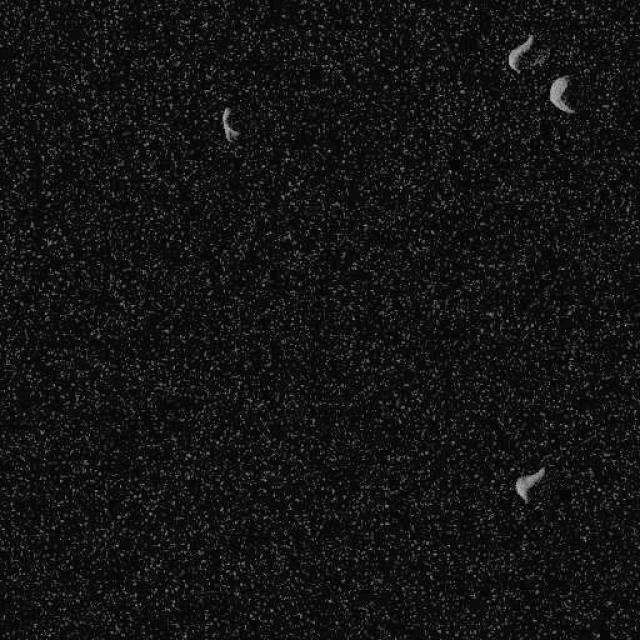D2: (514, 465, 545, 504), (506, 32, 535, 72), (548, 74, 576, 114), (220, 105, 239, 143)
